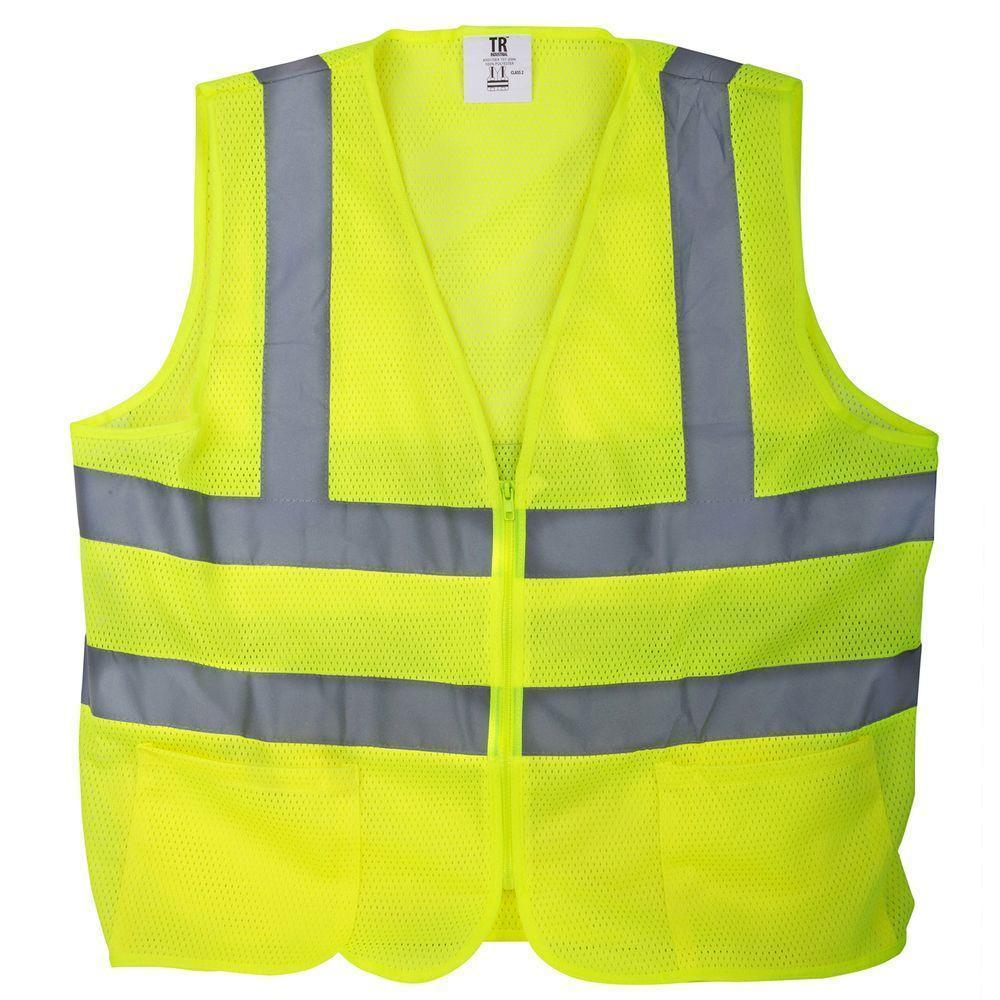vest: (65, 18, 942, 984)
